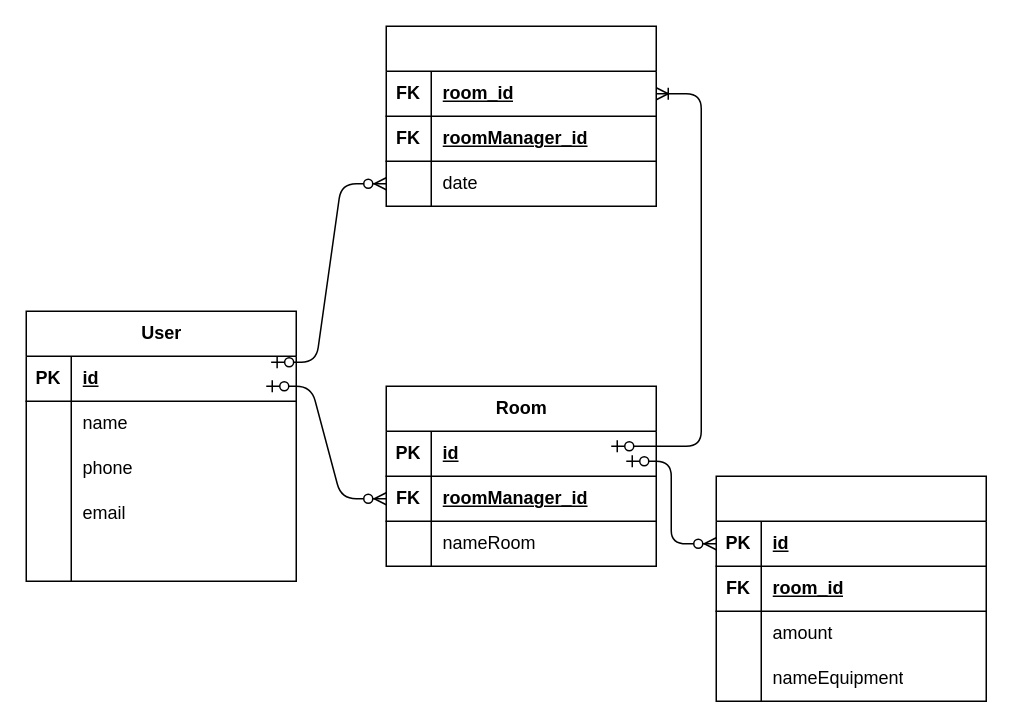
Some shapes in this 1013 by 728 pixel diagram are drawn without their labels. Each missing label, with the box of its shape:
Occupancy: (385, 25, 656, 206)
RoomEquipment: (715, 475, 986, 701)
